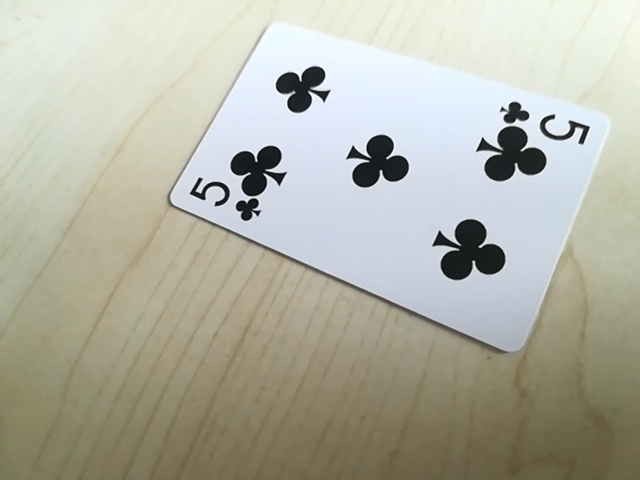mh 5: (495, 102, 597, 142), (183, 178, 265, 225)
